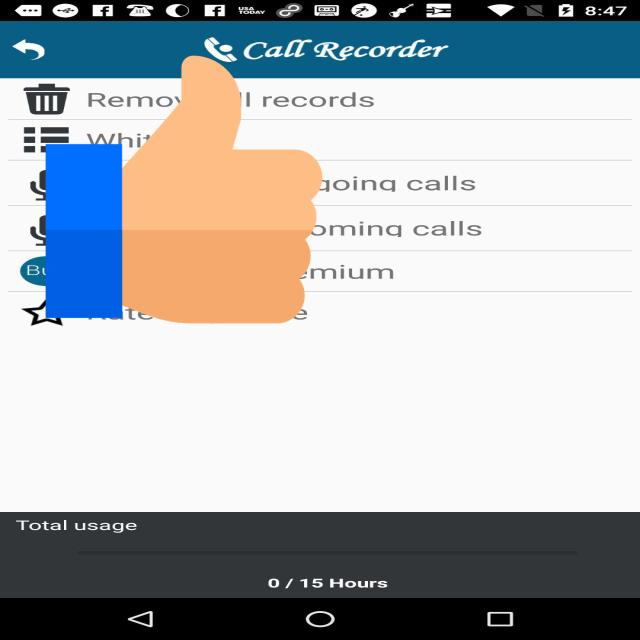privacy zuckering: (46, 49, 322, 330)
